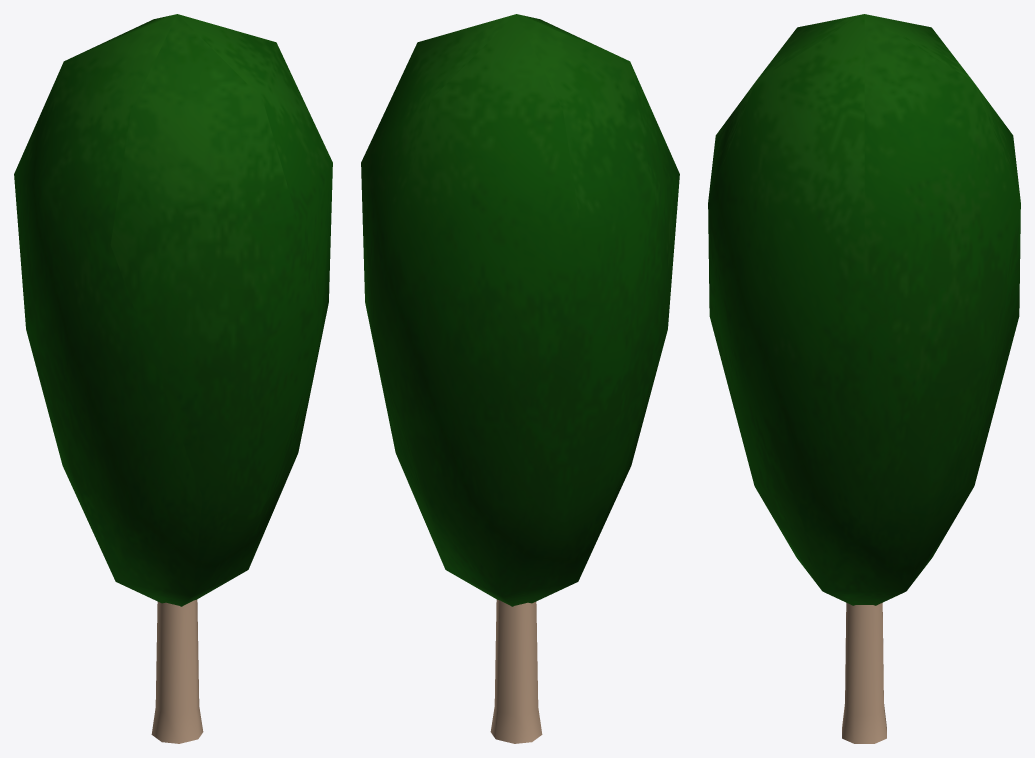
Rendered from Tree_Cedar_3.fbx.
3 views of the same model, side by side, from view 1: azimuth 30°, elevation 25°; view 2: azimuth 150°, elevation 25°; view 3: azimuth 270°, elevation 25° (orthographic).
Visible parts, largest first — view 1: Icosphere.035, Cube.087; view 2: Icosphere.035, Cube.087; view 3: Icosphere.035, Cube.087.
Part boxes in pixels (box(x1,y1,x2,y2)): Icosphere.035: box(14, 14, 332, 606); Cube.087: box(151, 599, 203, 743); Icosphere.035: box(361, 14, 679, 606); Cube.087: box(490, 599, 542, 743); Icosphere.035: box(708, 14, 1020, 605); Cube.087: box(842, 603, 886, 743).
Size of the model in its own units: 160 by 397 by 156.
